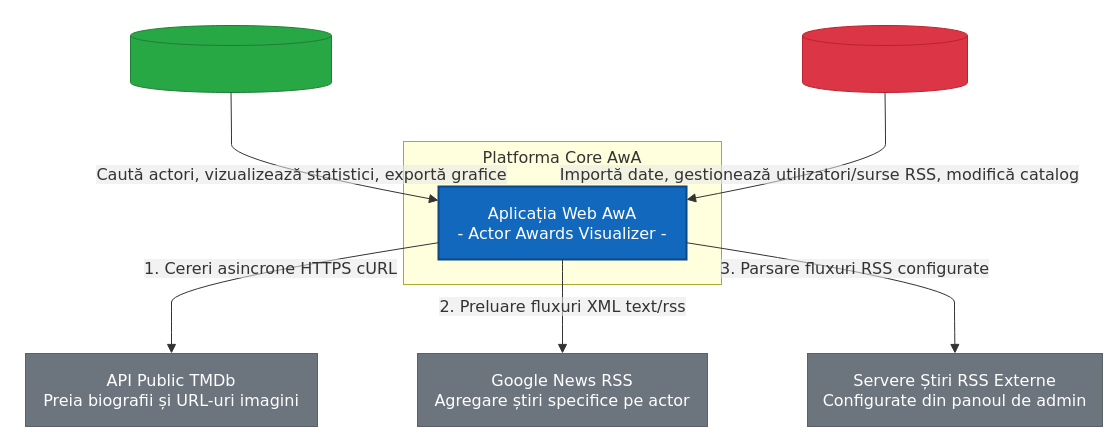
Image size: 1120x444. Some labels were removed from this diagram. The shapes that lost their labels are listed below. From the top down, each one's centre as x and y in pixels, then its label:
the point at 231,58: Utilizator Anonim / Client
the point at 885,58: Administrator Sistem
